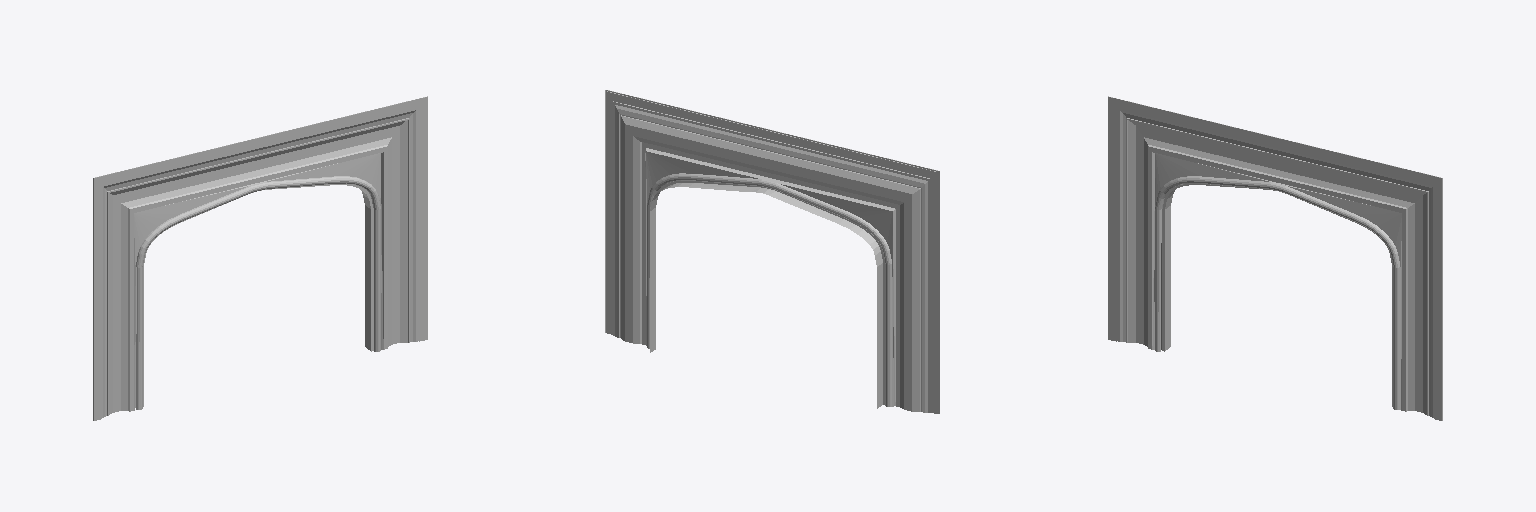
File: Template005.obj
3 renders of one model, left to right at view 1: azimuth 30°, elevation 25°; view 2: azimuth 150°, elevation 25°; view 3: azimuth 330°, elevation 25°, orthographic.
Parts seen in each view (by area): view 1: Template.005; view 2: Template.005; view 3: Template.005.
Part boxes in pixels (x1,y1,x2,y2): Template.005: (93,96,427,420); Template.005: (605,90,939,413); Template.005: (1108,96,1442,420).
Size of the model in its own units: 6.38 by 4.46 by 0.3237.